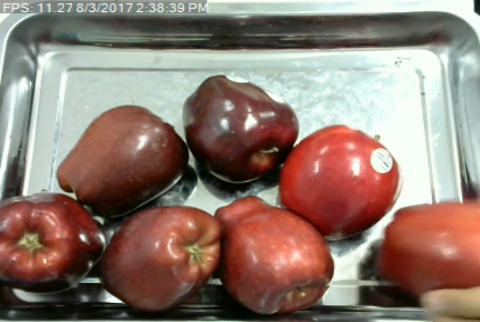Apple: (211, 194, 336, 322), (53, 102, 192, 216), (276, 121, 406, 241), (95, 201, 226, 317), (179, 73, 302, 185), (0, 188, 109, 295), (375, 195, 480, 300)
